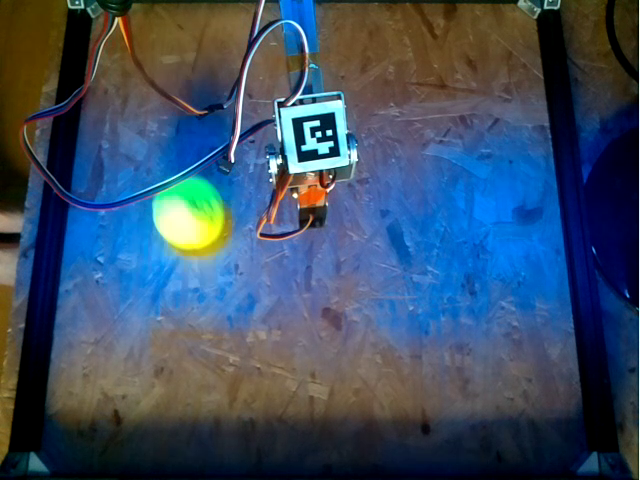tennis_ball: (152, 174, 225, 250)
